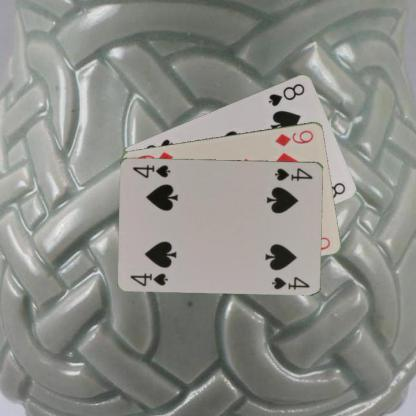4s: (128, 270, 170, 288), (272, 165, 314, 182)
8s: (266, 80, 306, 108)
9d: (273, 127, 315, 147)
